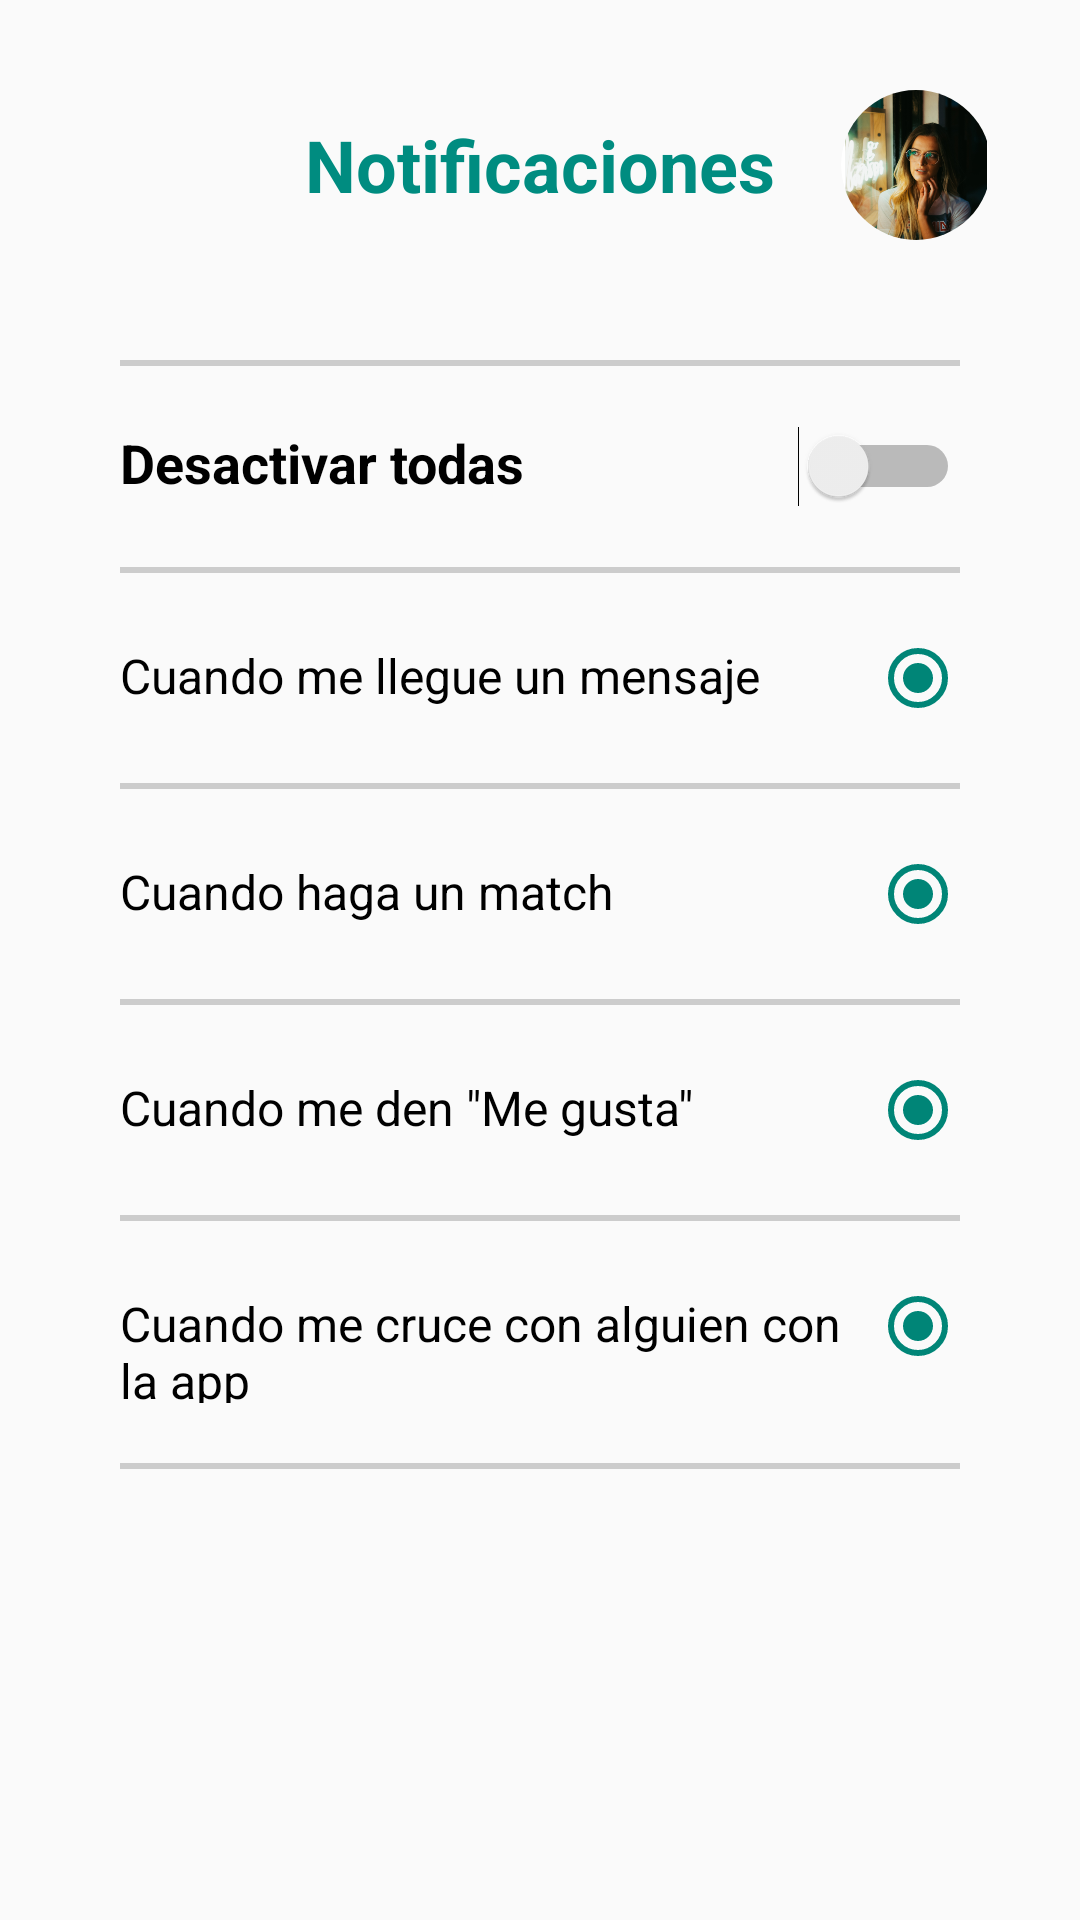

Screen size 1080*1920. Icon name, then its center in pixels as (x,y):
photo main: (916,165)
